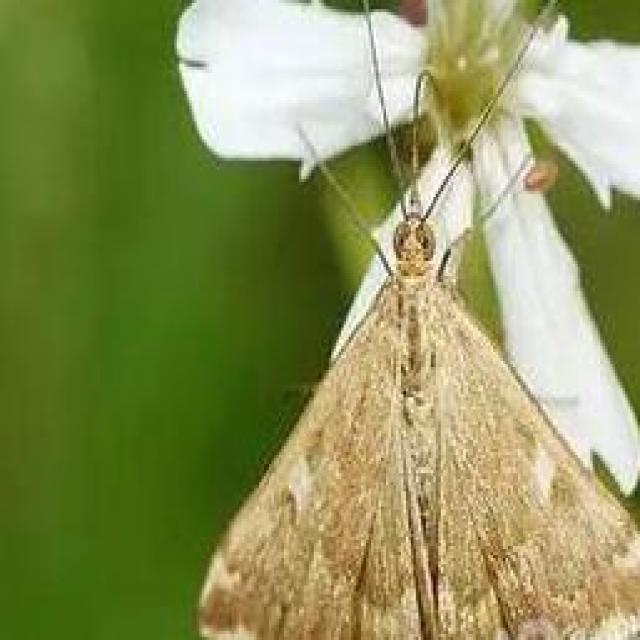armyworm: (215, 143, 640, 640)
